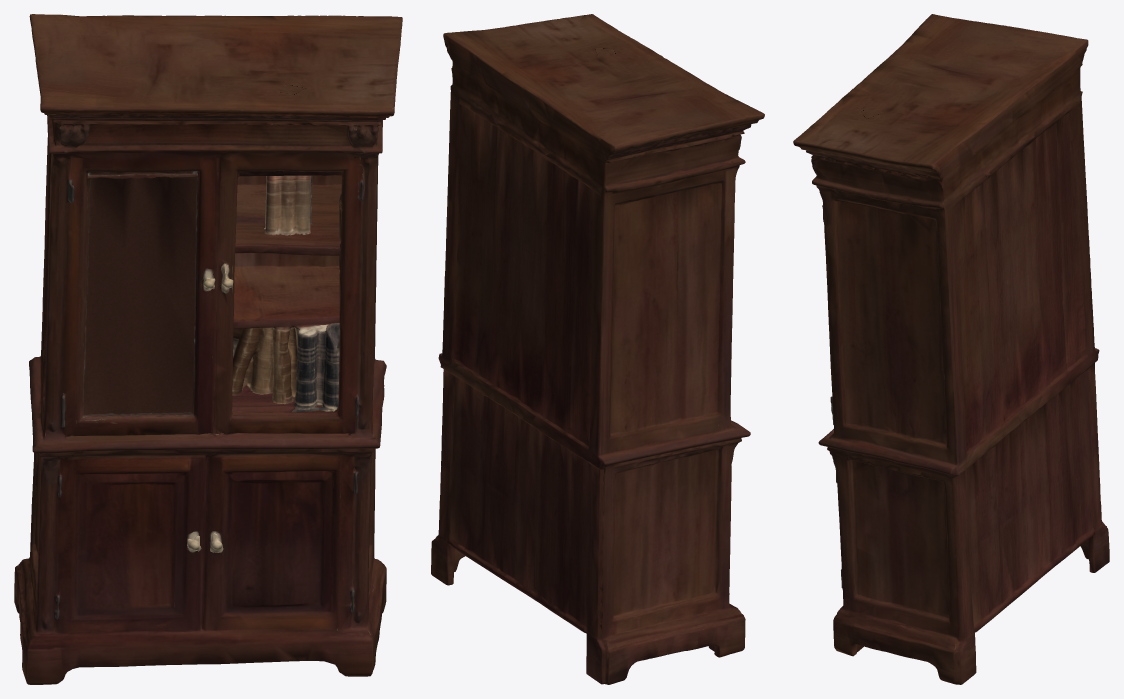
The model's file is victorian-cabinet-quest.glb.
3 views of the same model, side by side, from view 1: azimuth 30°, elevation 25°; view 2: azimuth 150°, elevation 25°; view 3: azimuth 270°, elevation 25° (orthographic). The views are drawn at different scales.
Parts seen in each view (by area): view 1: victorian_cabinet; view 2: victorian_cabinet; view 3: victorian_cabinet.
Part boxes in pixels (x1,y1,x2,y2): victorian_cabinet: (14, 14, 402, 684); victorian_cabinet: (431, 14, 764, 684); victorian_cabinet: (793, 14, 1109, 684).
Bounding box in the file's own units: 1.25 × 2 × 1.09.
Materials: 1 (1 with a texture image).
